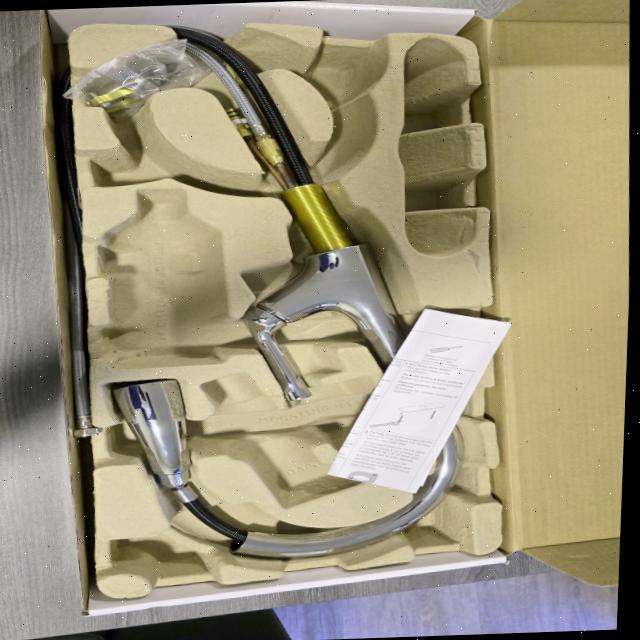1o: (112, 24, 464, 559)
2m: (201, 373, 413, 506)
3m: (99, 188, 224, 366)
4m: (396, 38, 476, 257)
5m: (302, 55, 370, 103)
6: (60, 39, 213, 115)
7m: (92, 128, 211, 188)
8: (327, 307, 513, 493)
